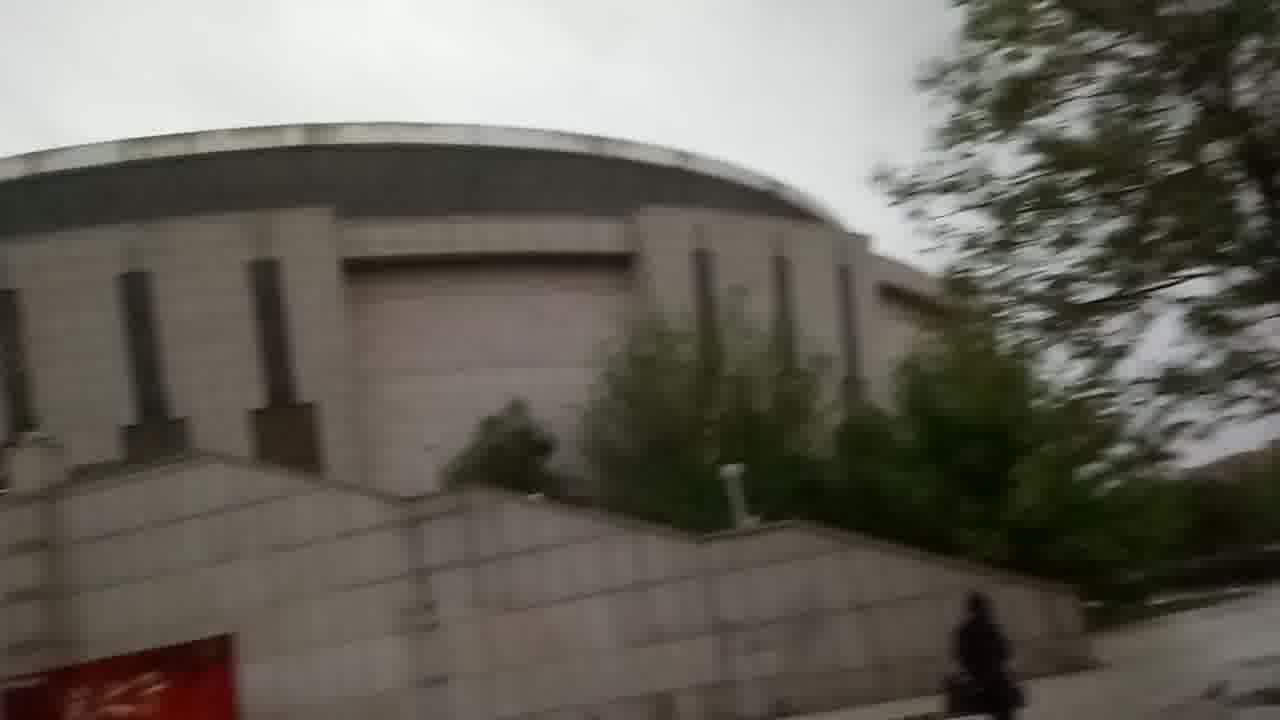zhongtiww: (5, 108, 1059, 720)
